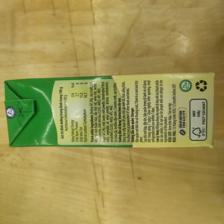NSPN_Hop: (4, 72, 214, 150)
